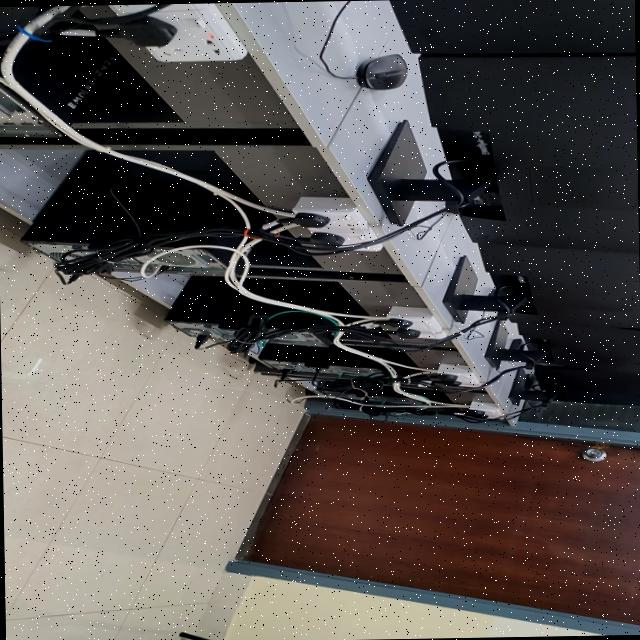Cpu: (20, 149, 281, 274), (0, 4, 128, 135), (164, 274, 362, 345), (260, 339, 415, 382), (315, 389, 439, 412)
Monitor: (368, 55, 639, 251), (443, 243, 640, 327), (392, 0, 635, 54), (485, 320, 640, 370), (509, 364, 640, 404)
Mouse: (357, 53, 407, 89), (509, 338, 526, 349), (525, 372, 536, 387)
